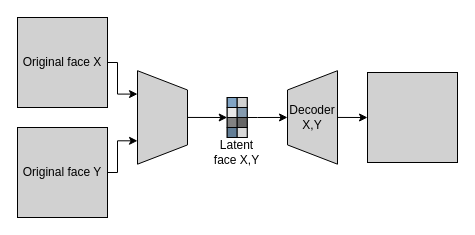
The diagram is 475 pixels wide and 235 high, and some of its shapes have lost their labels. The shapes that lost their labels are listed below. From the top down, each one's centre as x and y in pixels, then its label:
At pixel 162 117: "Encoder".
At pixel 412 117: "Reconstructed face X,Y".
